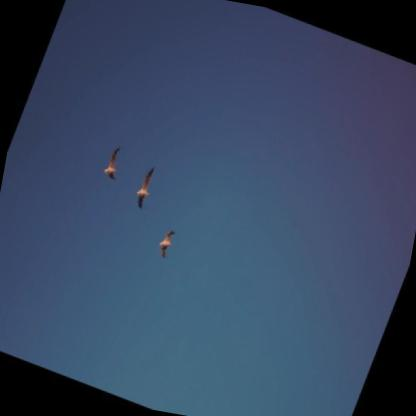bird: (129, 160, 166, 213), (100, 142, 133, 185), (152, 226, 180, 263)
